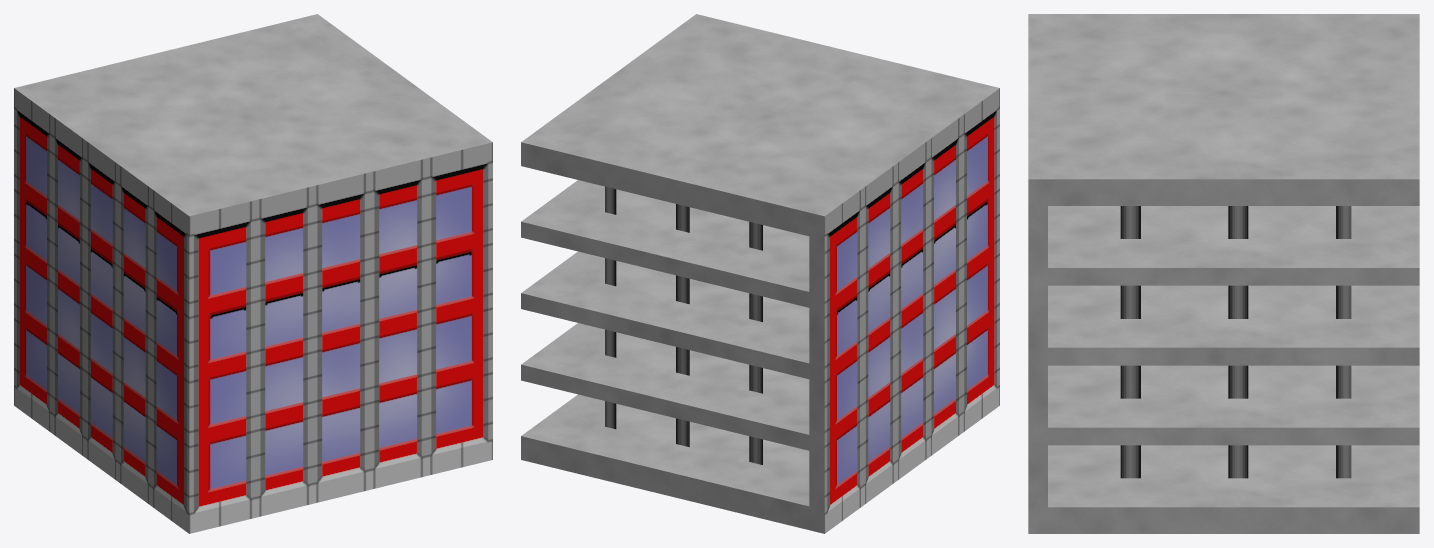
File: BlockApartment.FBX
The picture shows the model from 3 angles, left to right: view 1: azimuth 30°, elevation 25°; view 2: azimuth 150°, elevation 25°; view 3: azimuth 270°, elevation 25°; orthographic projection. The views are drawn at different scales.
Visible parts, largest first — view 1: Object001; view 2: Object001; view 3: Object001.
Boxes of the visible parts, bbox=[...] form: Object001: bbox=[14, 14, 492, 533]; Object001: bbox=[521, 14, 999, 533]; Object001: bbox=[1028, 14, 1419, 533].
Bounding box in the file's own units: 10 × 10 × 10.
3 materials, 3 textured.
